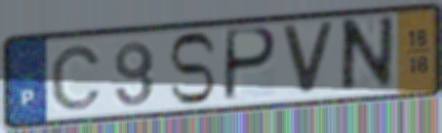9: (112, 39, 156, 108)
C: (48, 43, 105, 113)
N: (337, 13, 397, 99)
P: (221, 25, 281, 105)
S: (166, 30, 220, 108)
V: (278, 21, 338, 98)
